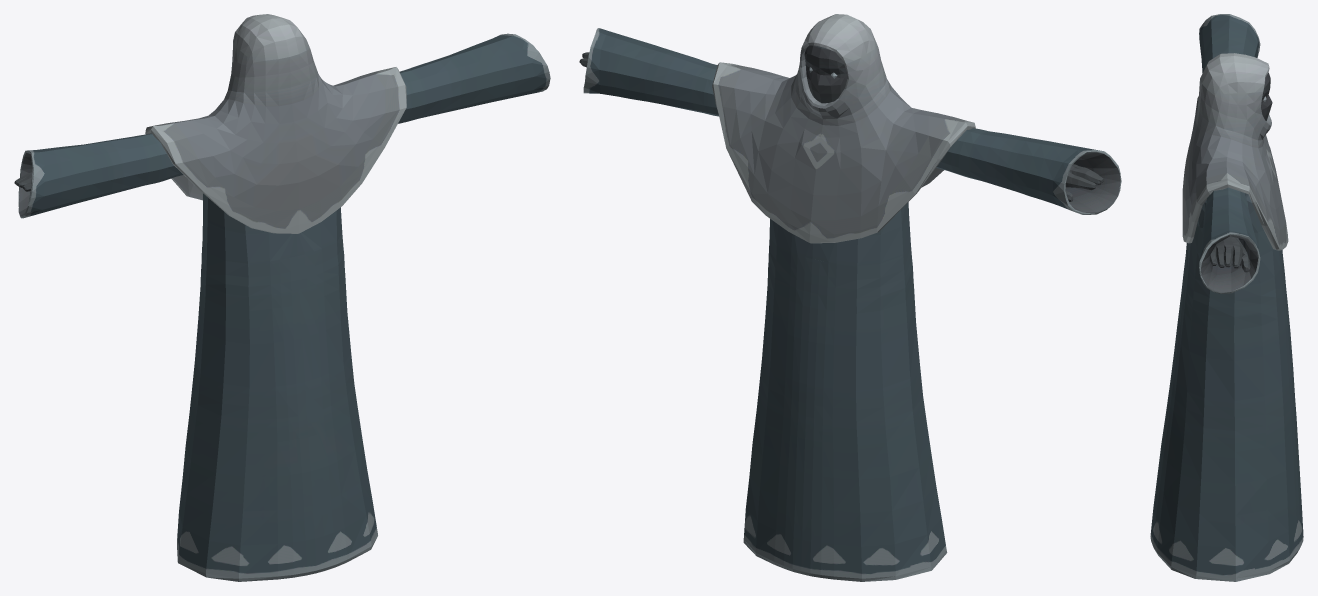
File: NPC_SkinnyIntellectualBody.glb
The picture shows the model from 3 angles, left to right: view 1: azimuth 30°, elevation 25°; view 2: azimuth 150°, elevation 25°; view 3: azimuth 270°, elevation 25°; orthographic projection. The views are drawn at different scales.
Visible parts, largest first — view 1: NPC_SkinnyIntellectualBody; view 2: NPC_SkinnyIntellectualBody; view 3: NPC_SkinnyIntellectualBody.
Part boxes in pixels (x1,y1,x2,y2): NPC_SkinnyIntellectualBody: (14, 14, 550, 581); NPC_SkinnyIntellectualBody: (579, 14, 1121, 581); NPC_SkinnyIntellectualBody: (1150, 14, 1303, 581).
Size of the model in its own units: 14.29 by 13.75 by 3.91.
1 material, 1 textured.
